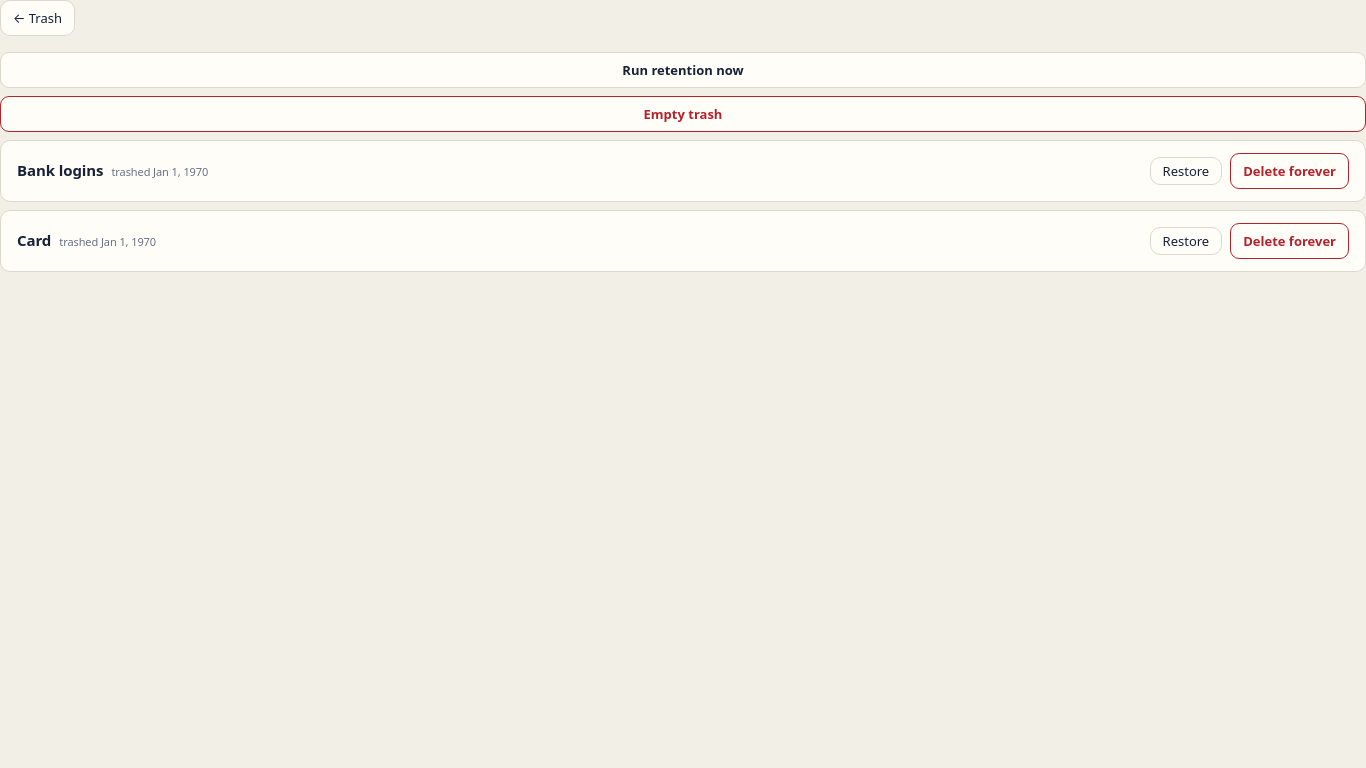
Scenario: TrashView › shows a "Purged N items" status banner after emptying trash
Expected: the text "Bank logins" is shown, [17,160,104,180]
Click the button "Empty trash" at (683, 114), box [0,96,1365,132]
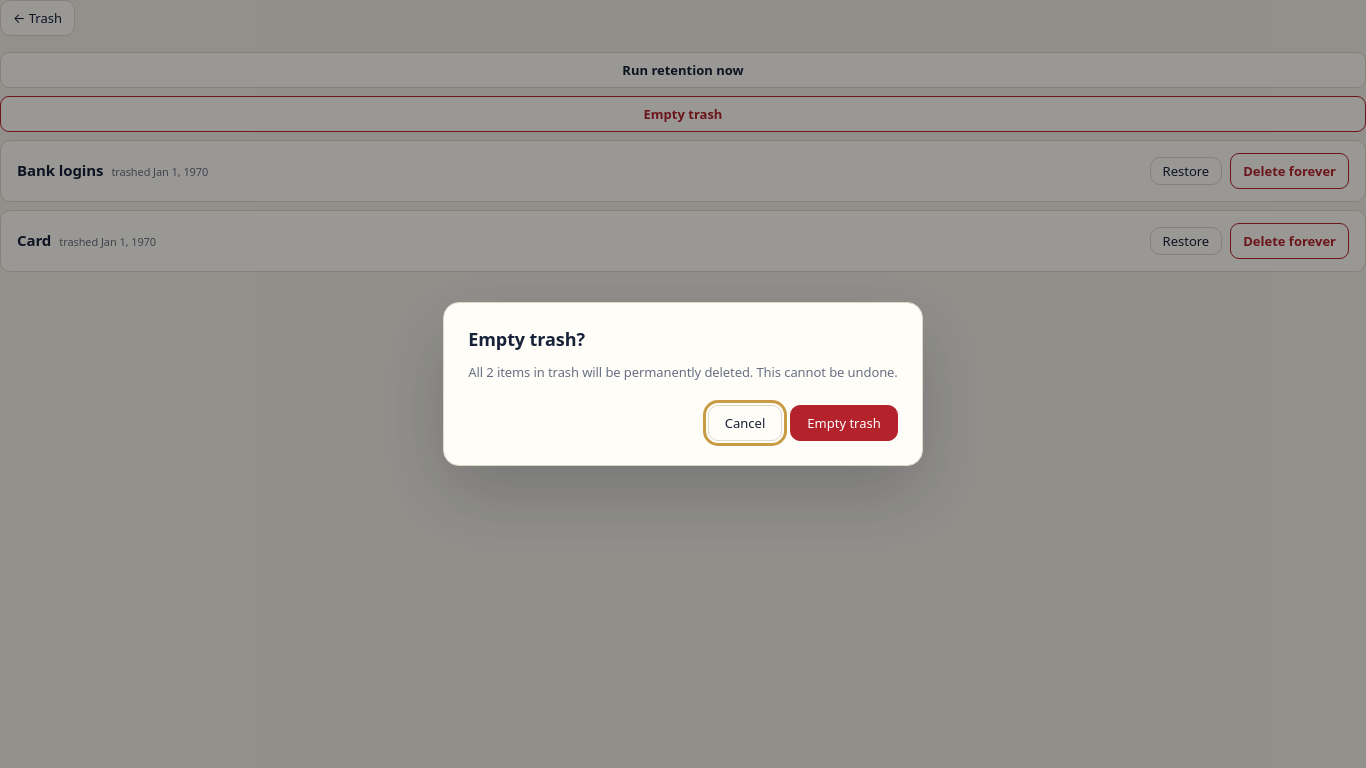
Click the button "Empty trash" at (844, 423), box [790,405,898,441]
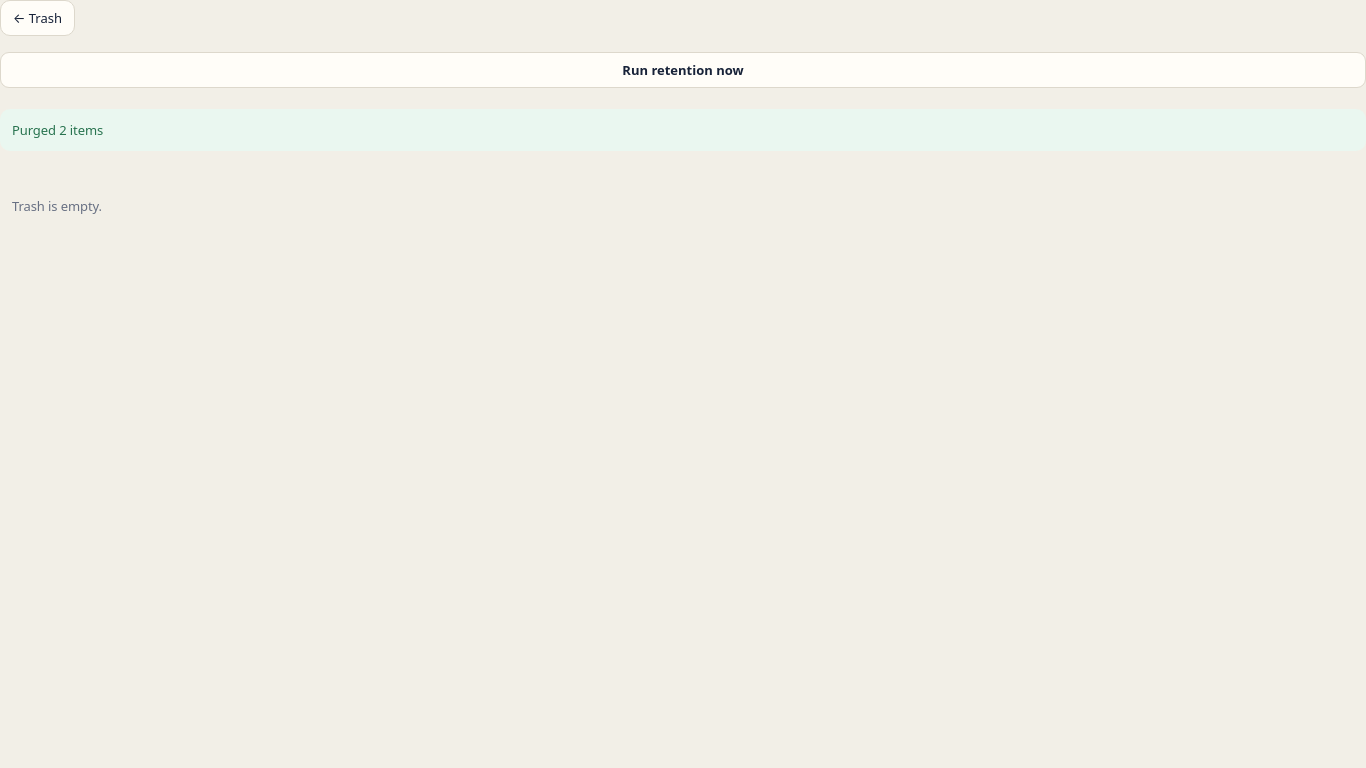
Result: the message reads "Purged 2 items" at [12,121,103,139]
